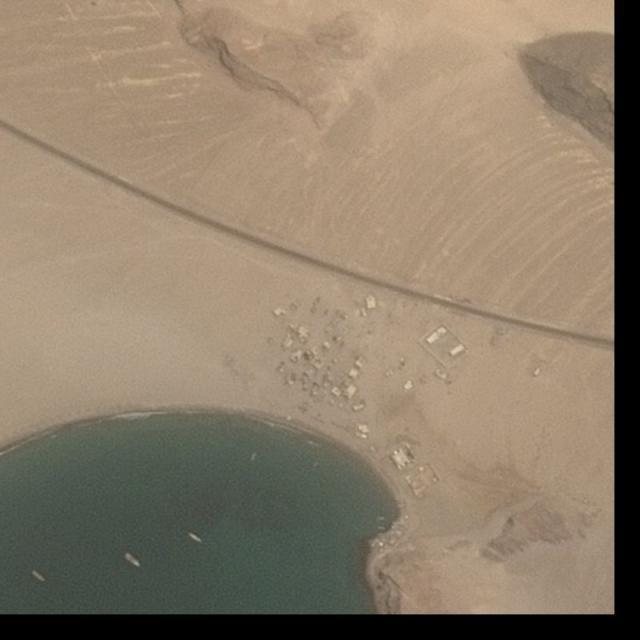ship: (124, 553, 141, 568), (32, 570, 46, 582), (190, 533, 202, 542), (251, 453, 257, 460), (378, 526, 386, 530), (378, 517, 385, 521), (314, 462, 318, 467)
